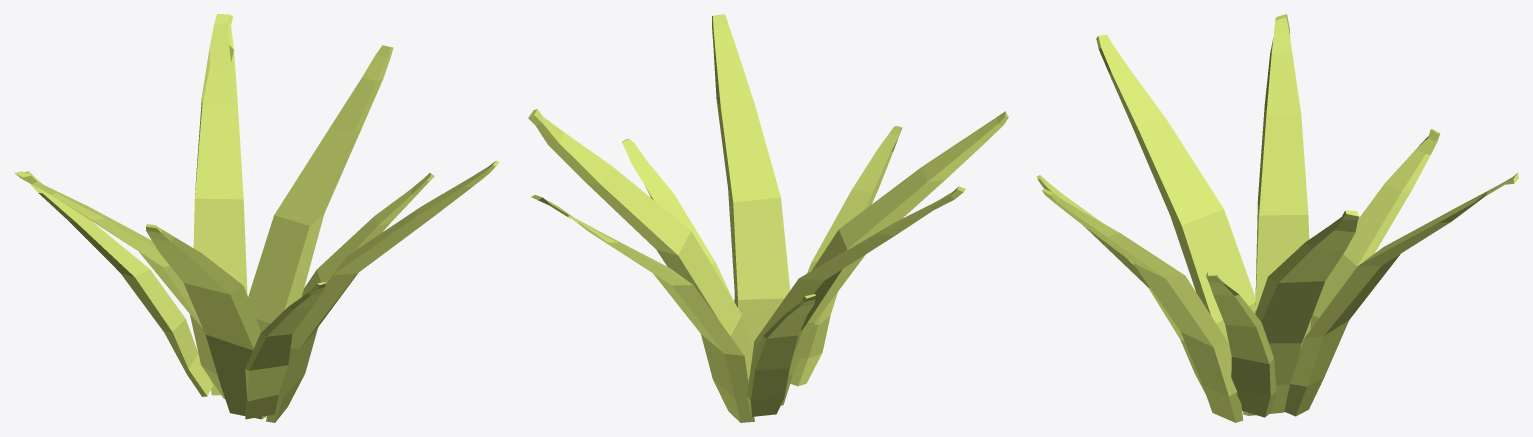
File: Grass.fbx
3 renders of one model, left to right at view 1: azimuth 30°, elevation 25°; view 2: azimuth 150°, elevation 25°; view 3: azimuth 270°, elevation 25°, orthographic. The views are drawn at different scales.
Parts seen in each view (by area): view 1: Cube.007; view 2: Cube.007; view 3: Cube.007.
Part boxes in pixels (<box>): Cube.007: <box>15,14,499,422</box>; Cube.007: <box>528,14,1008,422</box>; Cube.007: <box>1037,14,1518,422</box>.
Bounding box in the file's own units: 87.76 × 58.73 × 87.29.
